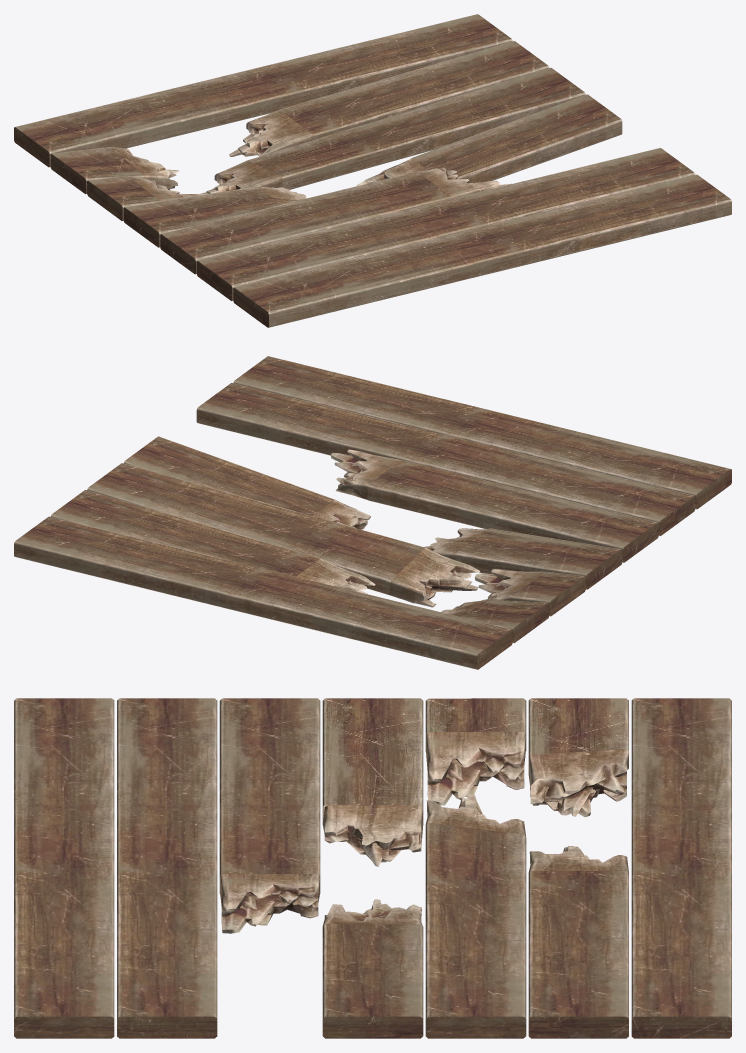
3 views of the same model, one above another, from view 1: azimuth 30°, elevation 25°; view 2: azimuth 150°, elevation 25°; view 3: azimuth 270°, elevation 25° (orthographic). The views are drawn at different scales.
Visible parts, largest first — view 1: SM_BrokenWood_02_LOD0; view 2: SM_BrokenWood_02_LOD0; view 3: SM_BrokenWood_02_LOD0.
Boxes of the visible parts, box(x1,y1,x2,y2) form: SM_BrokenWood_02_LOD0: box(14, 14, 731, 327); SM_BrokenWood_02_LOD0: box(14, 356, 731, 669); SM_BrokenWood_02_LOD0: box(14, 698, 731, 1038).
Size of the model in its own units: 4.14 by 0.3675 by 3.95.
1 material, 1 textured.
